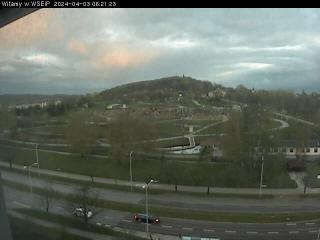car: (133, 211, 160, 225), (73, 207, 94, 219)
